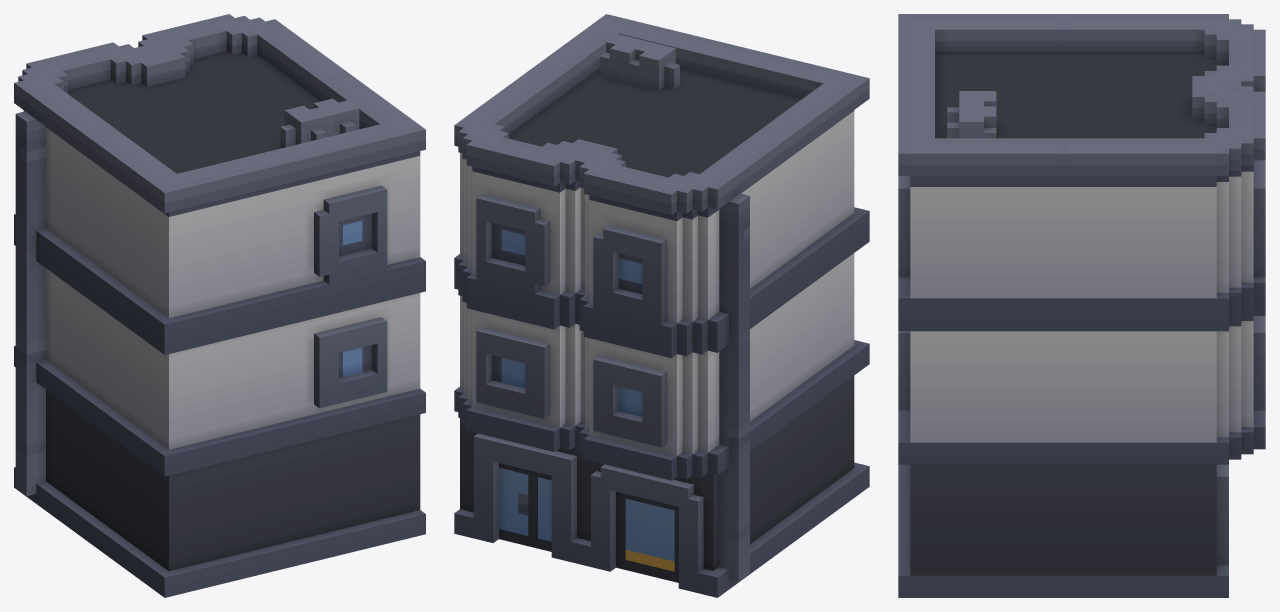
File: building_a.glb
3 views of the same model, side by side, from view 1: azimuth 30°, elevation 25°; view 2: azimuth 150°, elevation 25°; view 3: azimuth 270°, elevation 25° (orthographic). The views are drawn at different scales.
Parts seen in each view (by area): view 1: voxels; view 2: voxels; view 3: voxels.
Boxes of the visible parts, x1=… form: voxels: x1=14, y1=14, x2=425, y2=597; voxels: x1=454, y1=14, x2=869, y2=597; voxels: x1=898, y1=14, x2=1265, y2=597.
Bounding box in the file's own units: 0.9051 × 1.33 × 0.9697.
